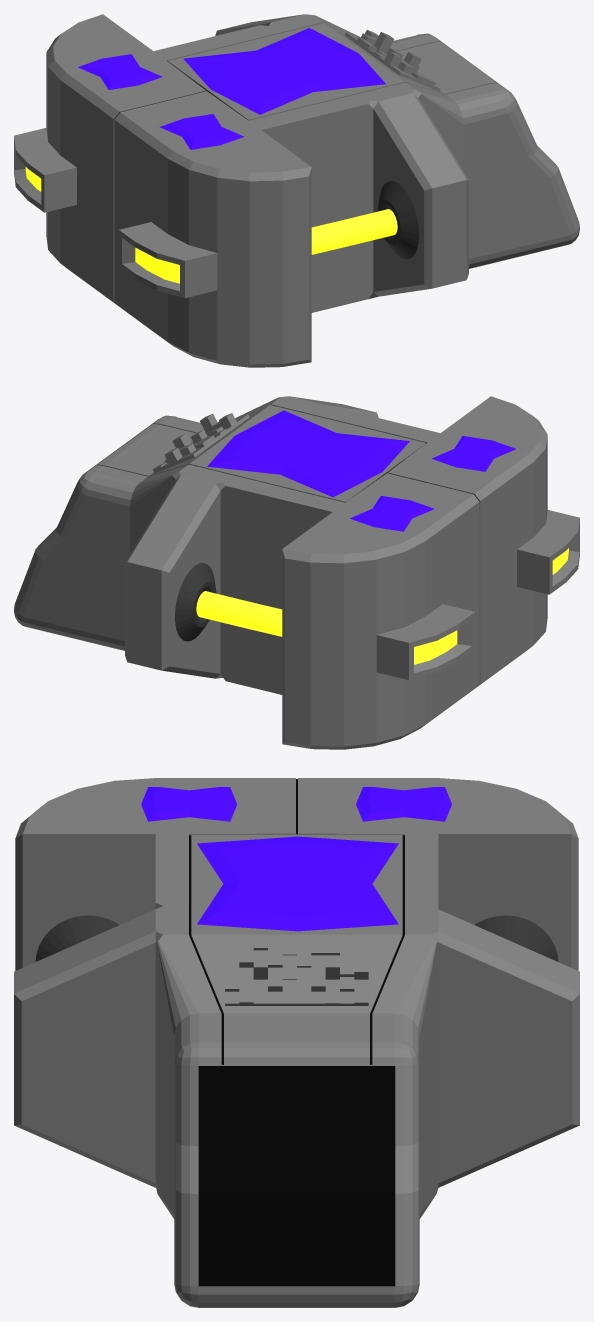
File: AlienShip1.fbx
3 renders of one model, top to bottom at view 1: azimuth 30°, elevation 25°; view 2: azimuth 150°, elevation 25°; view 3: azimuth 270°, elevation 25°, orthographic. The views are drawn at different scales.
Visible parts, largest first — view 1: Roundcube, Cube.008, Cylinder.001, Cube, Cube.005, Cube.002, Cube.001; view 2: Roundcube, Cube.008, Cylinder.001, Cube, Cube.005, Cube.001, Cube.002; view 3: Roundcube, Cube.008, Cube.002, Cube.001, Cylinder.001, Cube, Cube.005.
Part boxes in pixels (x1,y1,x2,y2): Roundcube: (14, 14, 579, 367); Cube.008: (183, 28, 385, 114); Cylinder.001: (311, 181, 418, 259); Cube: (159, 114, 244, 149); Cube.005: (78, 54, 162, 89); Cube.002: (372, 51, 440, 91); Cube.001: (344, 30, 403, 57); Roundcube: (14, 396, 579, 749); Cube.008: (207, 410, 409, 497); Cylinder.001: (175, 563, 282, 641); Cube: (432, 436, 516, 471); Cube.005: (350, 496, 434, 531); Cube.001: (152, 433, 221, 473); Cube.002: (191, 413, 249, 444); Roundcube: (14, 778, 579, 1307); Cube.008: (197, 836, 398, 931); Cube.002: (225, 936, 296, 1005); Cube.001: (297, 941, 368, 1005); Cylinder.001: (35, 915, 558, 961); Cube: (141, 787, 236, 821); Cube.005: (356, 787, 451, 821).
Size of the model in its own units: 566 by 247 by 461.
